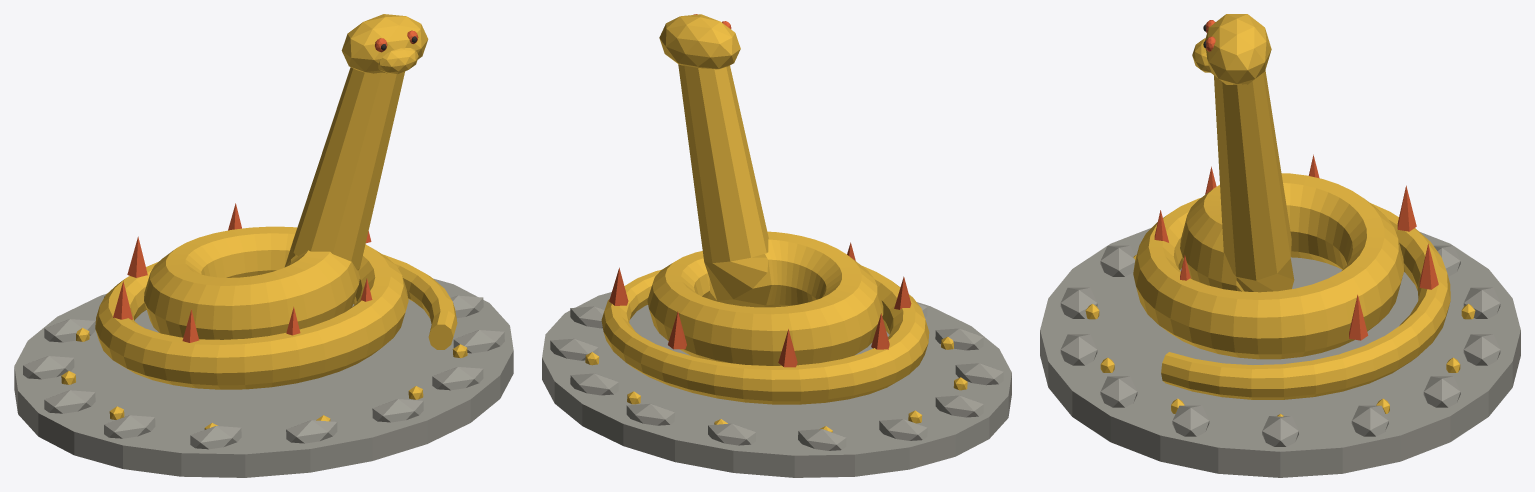
The model's file is chefe_mae_do_ouro.glb.
3 views of the same model, side by side, from view 1: azimuth 30°, elevation 25°; view 2: azimuth 150°, elevation 25°; view 3: azimuth 270°, elevation 25° (orthographic). The views are drawn at different scales.
Visible parts, largest first — view 1: chefe_mae_do_ouro; view 2: chefe_mae_do_ouro; view 3: chefe_mae_do_ouro.
Part boxes in pixels (x1,y1,x2,y2): chefe_mae_do_ouro: (14, 14, 513, 477); chefe_mae_do_ouro: (542, 14, 1011, 477); chefe_mae_do_ouro: (1040, 14, 1520, 477).
Bounding box in the file's own units: 12 × 9 × 10.
